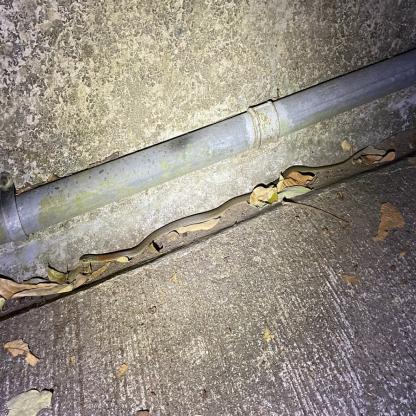Snake: (79, 216, 169, 270)
